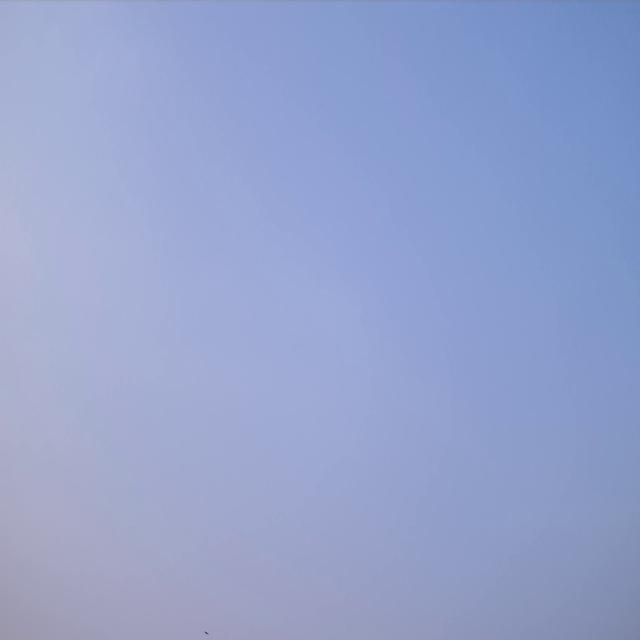UAV: (204, 630, 209, 635)
